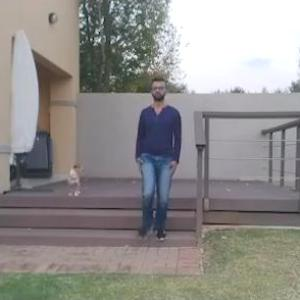follow: (142, 75, 183, 241)
